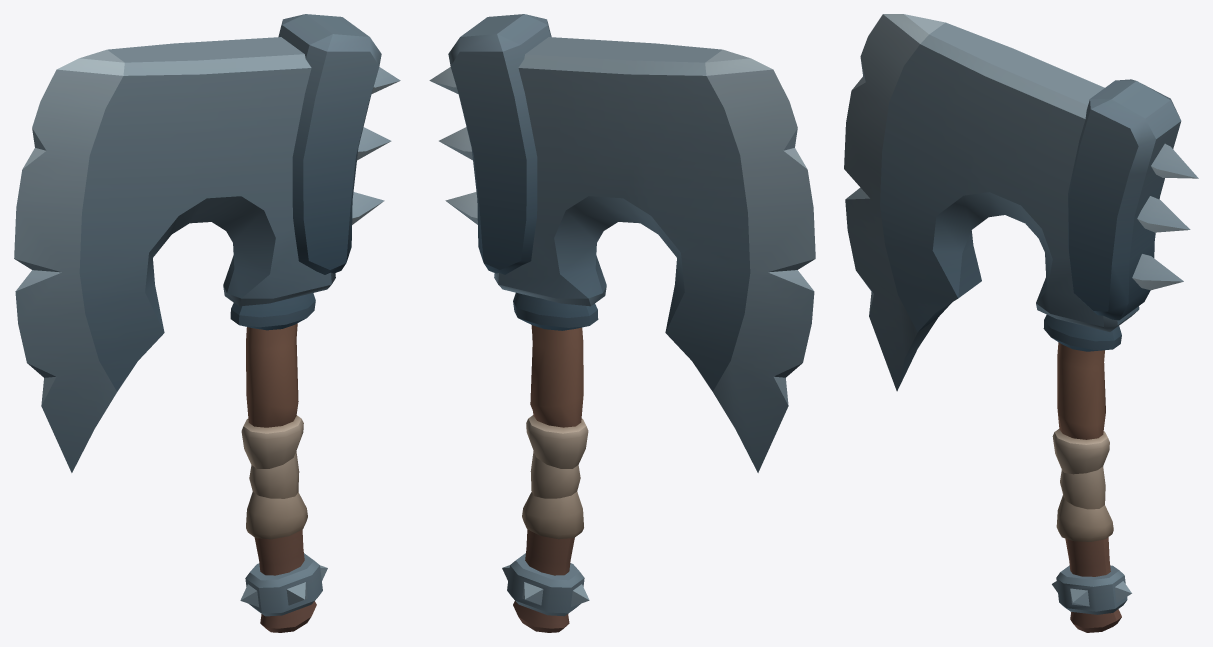
The model's file is axe_D.glb.
3 views of the same model, side by side, from view 1: azimuth 30°, elevation 25°; view 2: azimuth 150°, elevation 25°; view 3: azimuth 330°, elevation 25° (orthographic). The views are drawn at different scales.
Visible parts, largest first — view 1: axe_D; view 2: axe_D; view 3: axe_D.
Boxes of the visible parts, box(x1,y1,x2,y2) form: axe_D: box(14, 14, 400, 632); axe_D: box(429, 14, 815, 632); axe_D: box(844, 14, 1198, 632).
Bounding box in the file's own units: 1.09 × 1.67 × 0.2171.
1 material, 1 textured.
